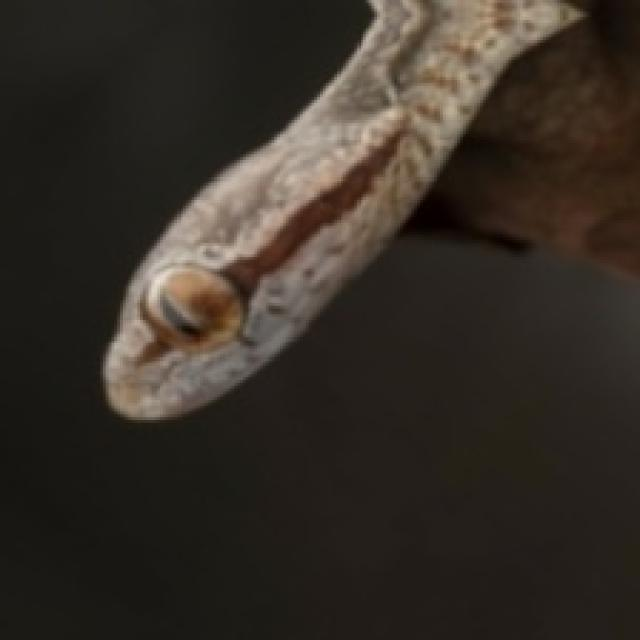dog-toothed cat snake: (103, 0, 580, 417)
